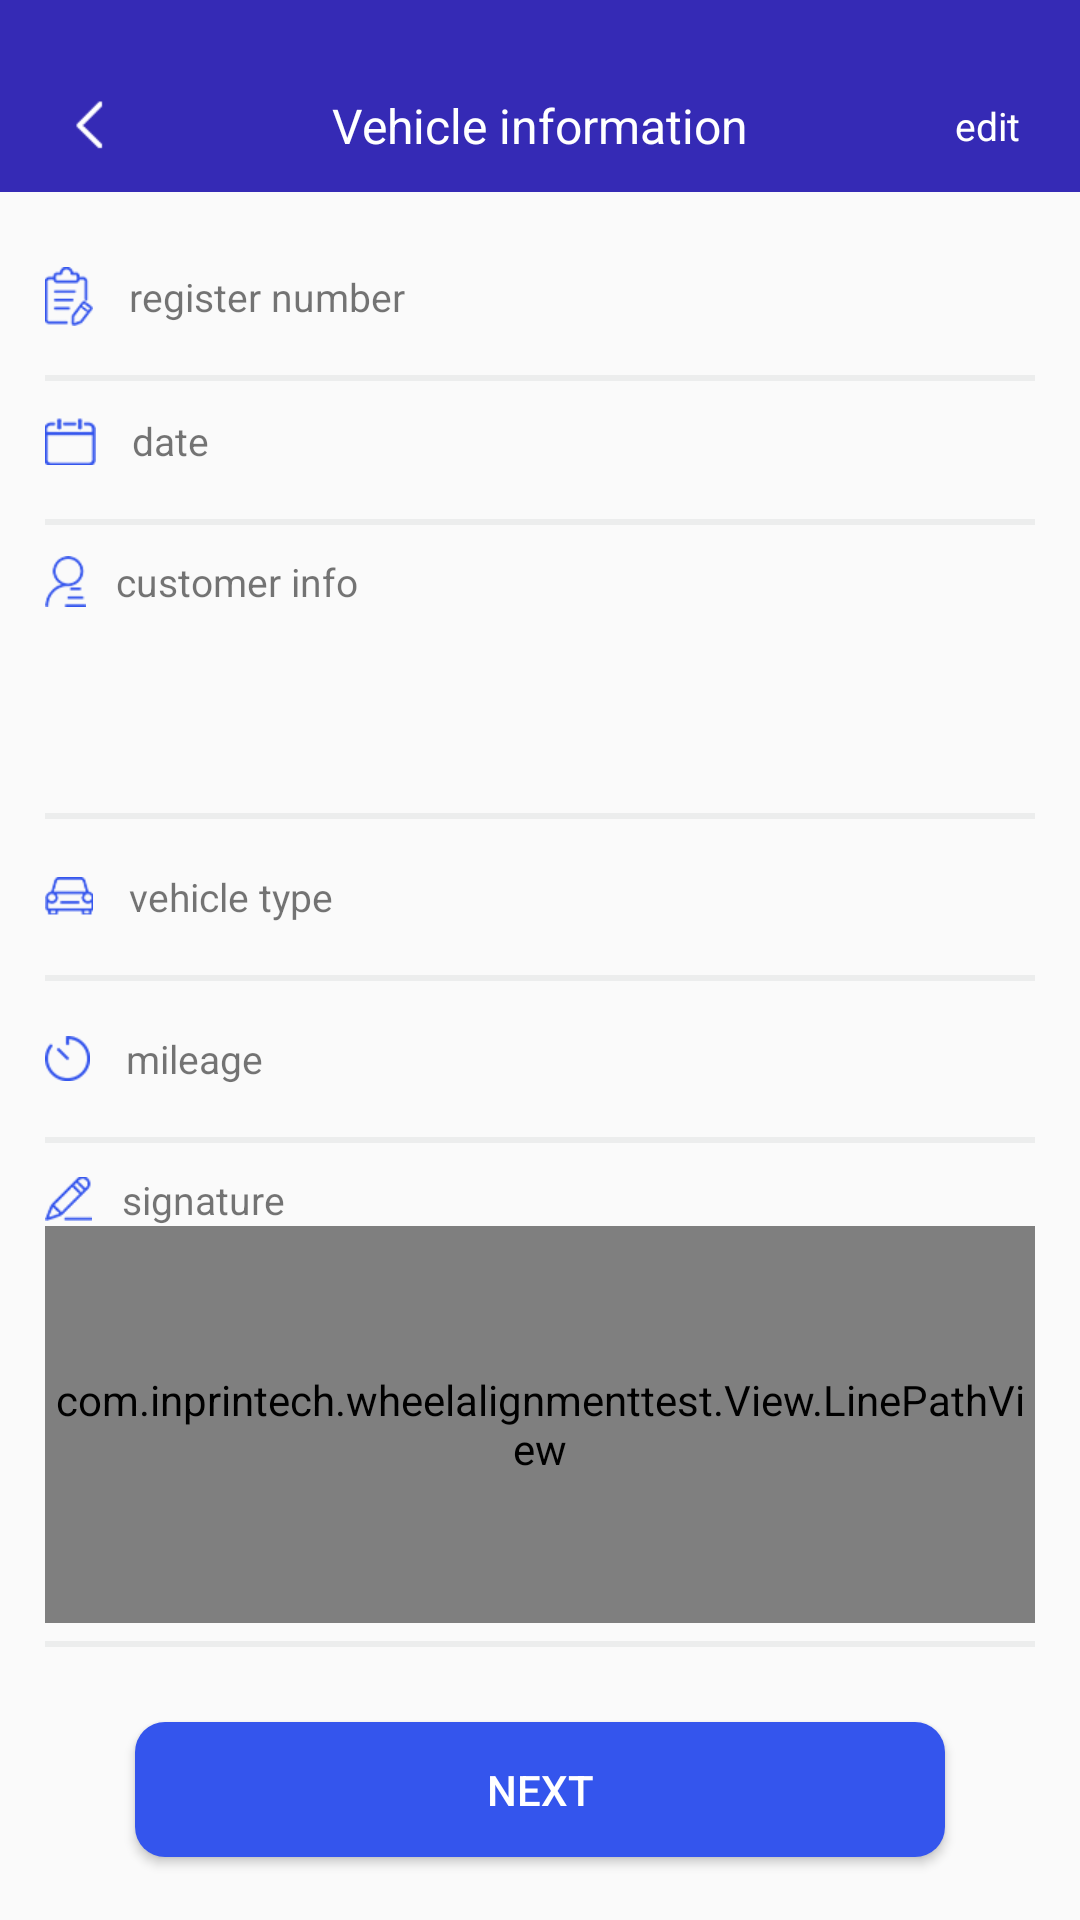

Point at icon controls on the screen. Image size 1080w x 1920h, points as [x,y].
autograph: [68,1199]
back: [89,125]
